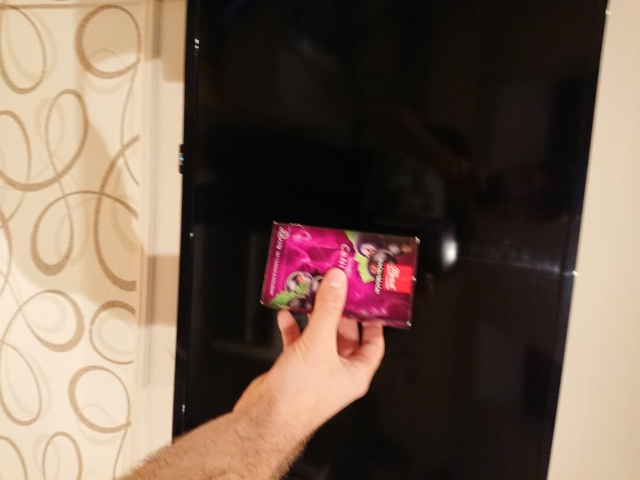Franck Black Currant Tea 60g: (256, 217, 423, 333)
